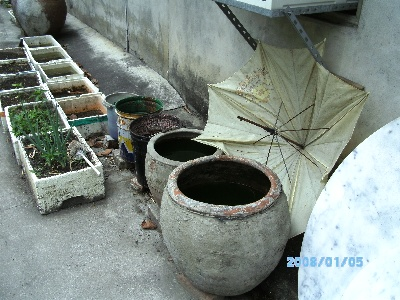bowl: (160, 155, 290, 296), (144, 128, 222, 203), (11, 1, 67, 34)
bucket: (115, 96, 164, 163)
styrofoam: (18, 126, 106, 215), (4, 99, 70, 163), (55, 93, 108, 136), (45, 78, 98, 98), (27, 46, 70, 68), (39, 61, 83, 80), (21, 35, 59, 50)
